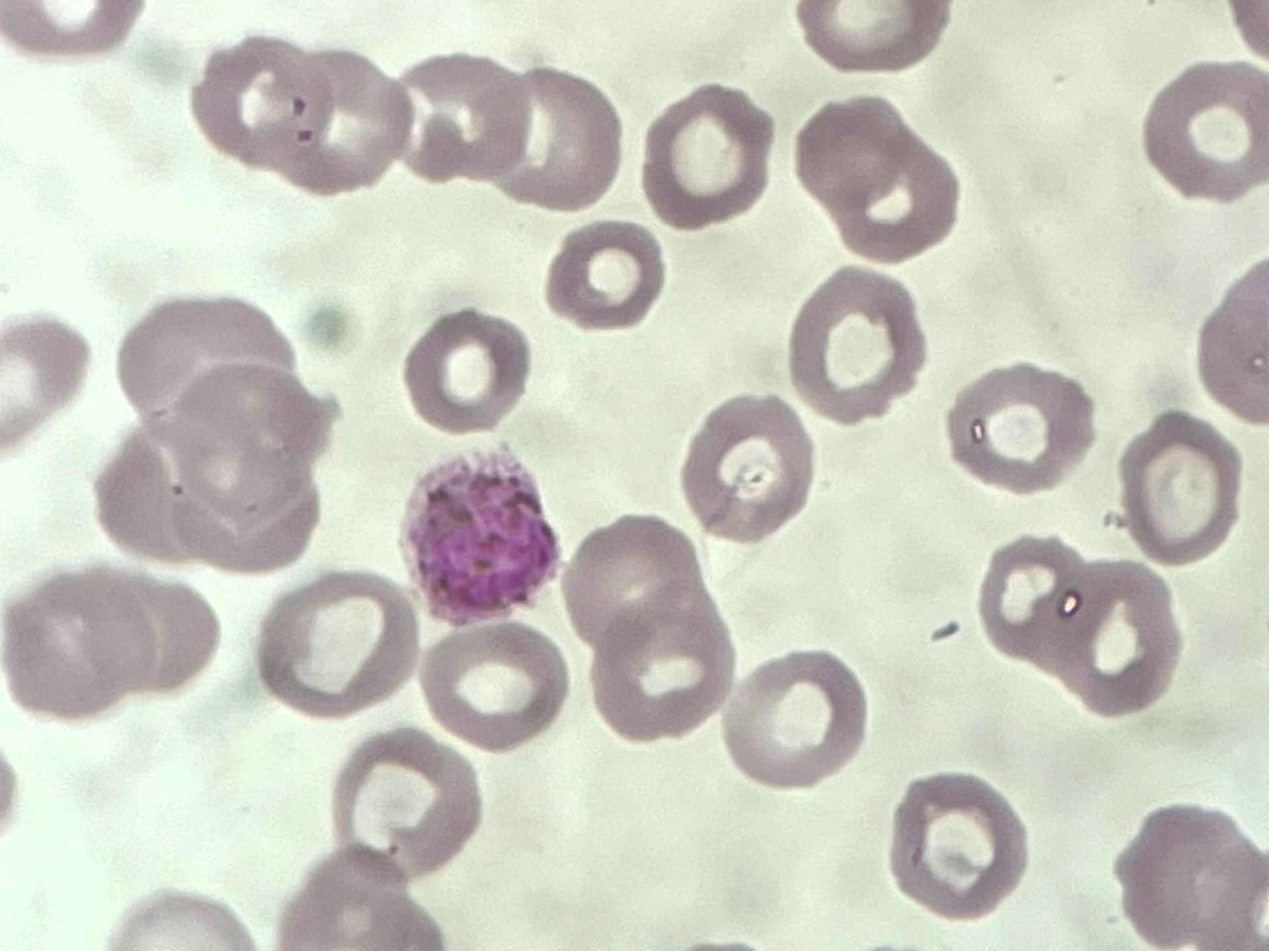Infected: (706, 324, 871, 504)
Uninfected: (930, 420, 1108, 589), (948, 375, 1133, 512), (848, 232, 1009, 377), (787, 76, 938, 226), (3, 1, 152, 148), (340, 528, 482, 682), (854, 747, 994, 901), (1118, 231, 1266, 375), (973, 537, 1149, 655), (401, 160, 548, 300), (537, 209, 683, 349), (245, 27, 381, 177), (172, 455, 322, 590), (83, 237, 217, 386), (455, 408, 589, 556), (700, 199, 849, 332), (939, 777, 1079, 914), (25, 385, 151, 537), (492, 724, 625, 865), (646, 741, 771, 882), (1, 748, 122, 887), (825, 3, 996, 100), (738, 768, 870, 893), (738, 517, 866, 641), (570, 319, 700, 435), (1050, 252, 1165, 379), (309, 688, 434, 804), (603, 619, 722, 728), (185, 293, 291, 413), (364, 742, 472, 856)
